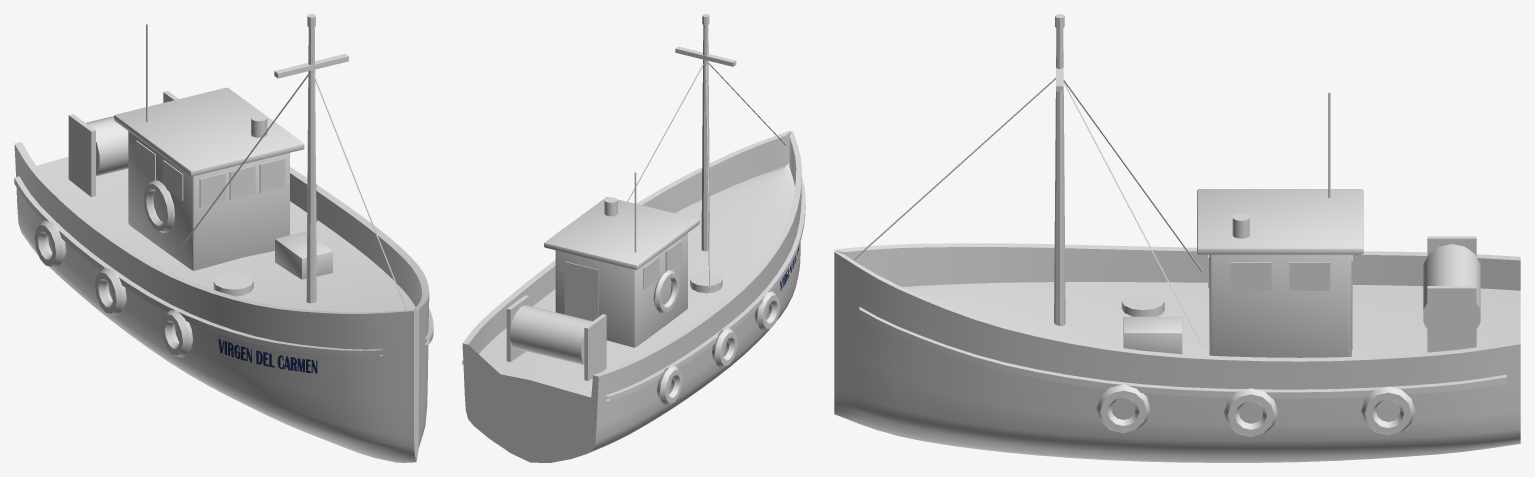
File: CITY_Boat_Lancha.fbx
3 views of the same model, side by side, from view 1: azimuth 30°, elevation 25°; view 2: azimuth 150°, elevation 25°; view 3: azimuth 270°, elevation 25° (orthographic). The views are drawn at different scales.
Parts seen in each view (by area): view 1: CITY_Boat_Lancha; view 2: CITY_Boat_Lancha; view 3: CITY_Boat_Lancha.
Part boxes in pixels (x1=…): CITY_Boat_Lancha: x1=14, y1=14, x2=433, y2=462; CITY_Boat_Lancha: x1=462, y1=14, x2=805, y2=462; CITY_Boat_Lancha: x1=834, y1=14, x2=1520, y2=462.
Size of the model in its own units: 2.97 by 4.95 by 7.
